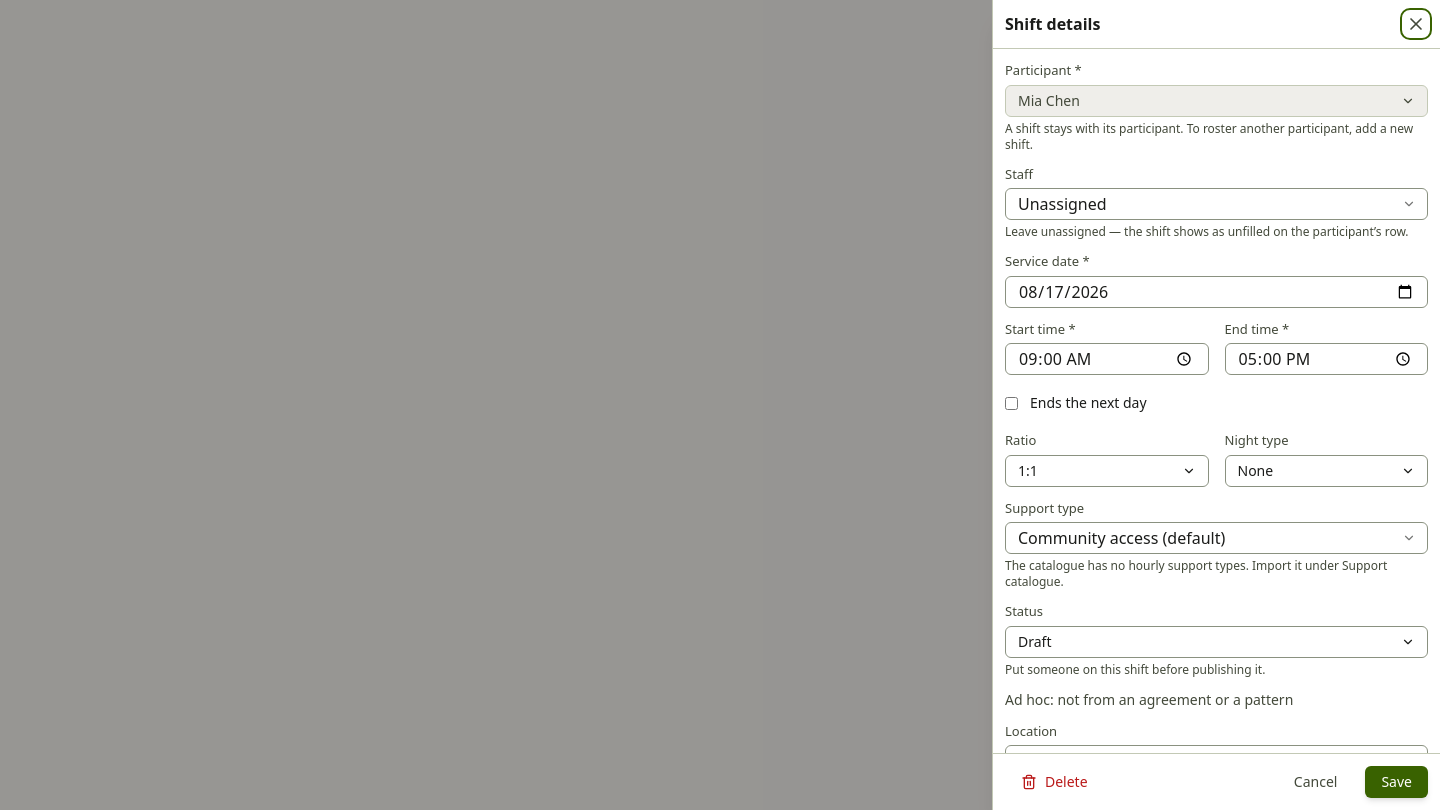
Test: ShiftSlideOver status (PP-8) › does not offer Published on a Draft with nobody on it
Click the button named "Status".
click(1035, 641)  # box x1=1005 y1=626 x2=1428 y2=658
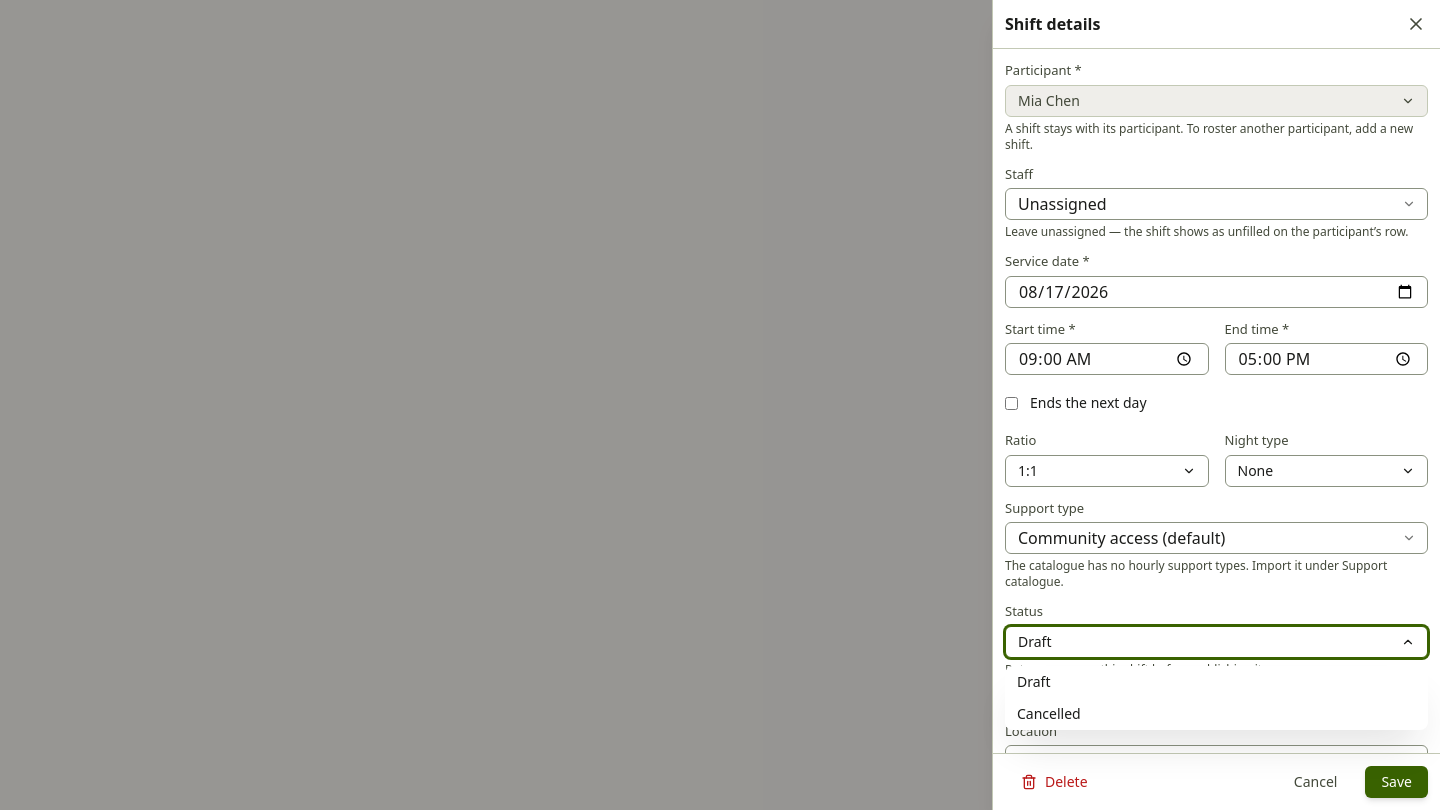
Check: the option "Draft" is shown, box x1=1017 y1=672 x2=1050 y2=690
